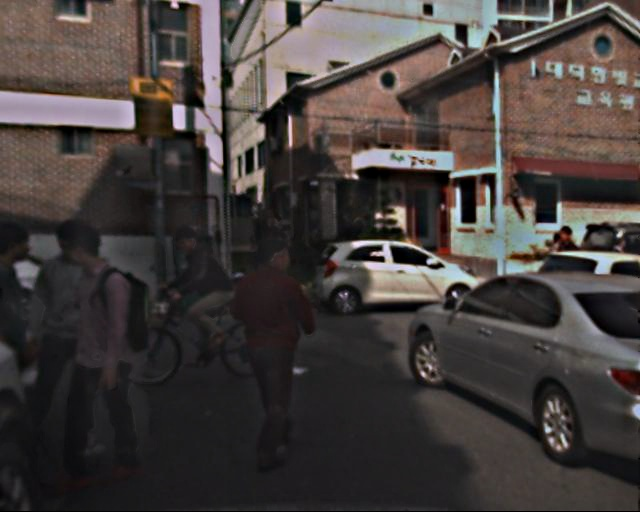person: (1, 225, 155, 463), (227, 230, 317, 450), (183, 222, 232, 341), (545, 221, 586, 322), (266, 210, 297, 285)
